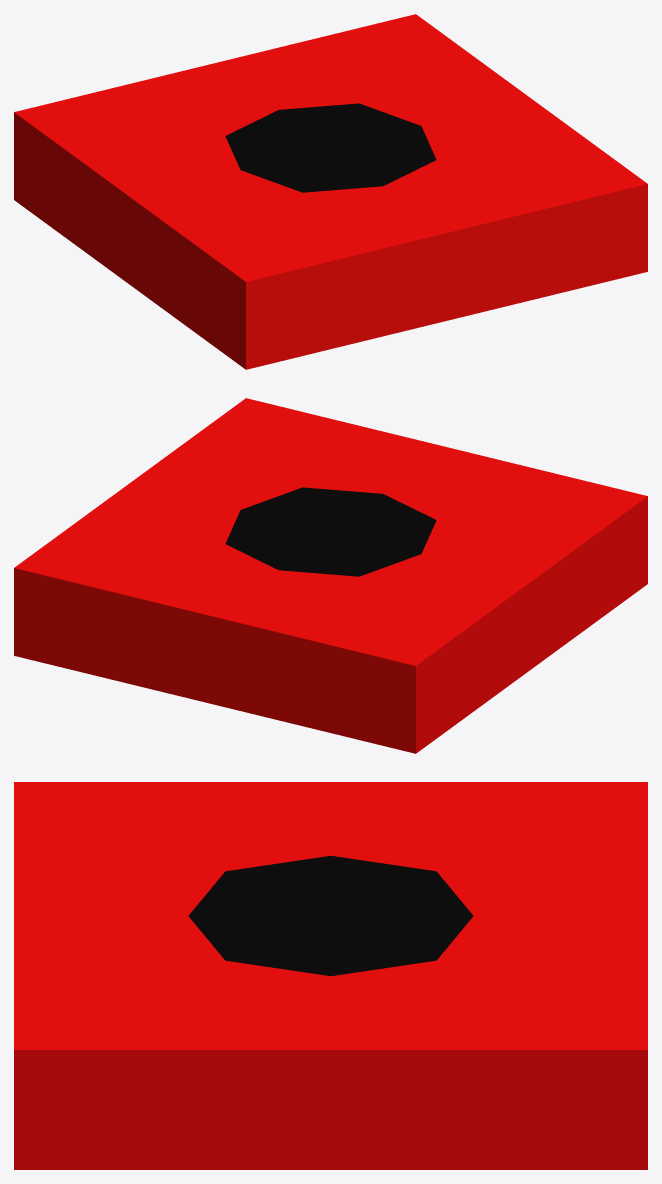
The picture shows the model from 3 angles, top to bottom: view 1: azimuth 30°, elevation 25°; view 2: azimuth 150°, elevation 25°; view 3: azimuth 270°, elevation 25°; orthographic projection. The views are drawn at different scales.
Parts seen in each view (by area): view 1: Box.002; view 2: Box.002; view 3: Box.002.
Part boxes in pixels (x1,y1,x2,y2): Box.002: (14,14,647,369); Box.002: (14,398,647,753); Box.002: (14,782,647,1169).
Size of the model in its own units: 52.72 by 11.01 by 52.72.
